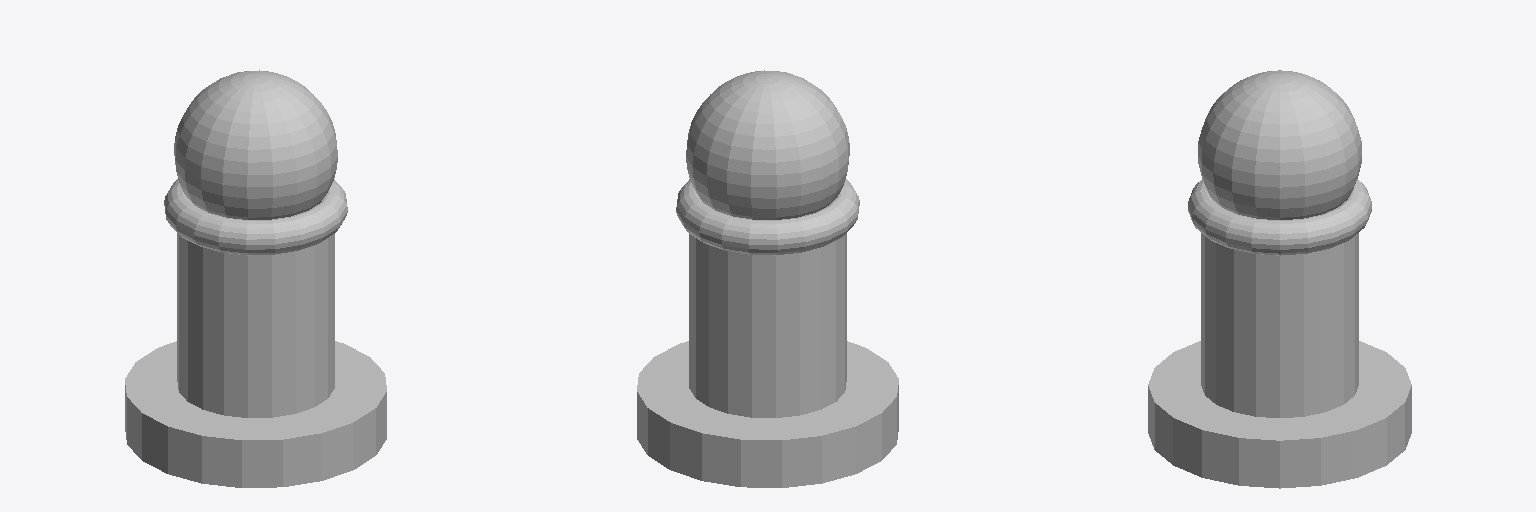
Rendered from pawn.obj.
3 renders of one model, left to right at view 1: azimuth 30°, elevation 25°; view 2: azimuth 150°, elevation 25°; view 3: azimuth 270°, elevation 25°, orthographic.
Visible parts, largest first — view 1: pCylinder2, pCylinder1, pSphere1, pTorus1; view 2: pCylinder2, pCylinder1, pSphere1, pTorus1; view 3: pCylinder2, pCylinder1, pSphere1, pTorus1.
Part boxes in pixels (left/top/right/bottom): pCylinder2: left=177, top=233, right=334, bottom=417; pCylinder1: left=125, top=341, right=386, bottom=487; pSphere1: left=174, top=70, right=337, bottom=219; pTorus1: left=164, top=179, right=347, bottom=255; pCylinder2: left=689, top=233, right=846, bottom=417; pCylinder1: left=637, top=341, right=898, bottom=487; pSphere1: left=686, top=70, right=849, bottom=219; pTorus1: left=676, top=179, right=859, bottom=255; pCylinder2: left=1201, top=233, right=1358, bottom=417; pCylinder1: left=1148, top=341, right=1411, bottom=488; pSphere1: left=1198, top=70, right=1361, bottom=219; pTorus1: left=1188, top=179, right=1371, bottom=255.
Bounding box in the file's own units: 2 × 2.98 × 2.